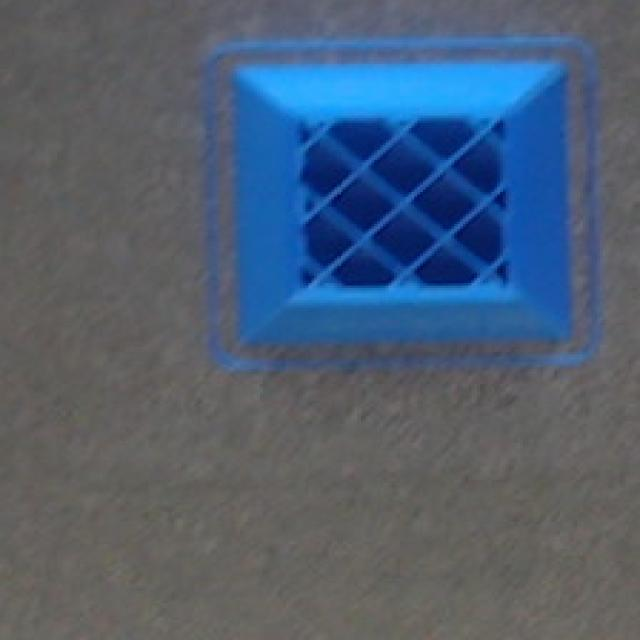noMistake: (211, 39, 597, 364)
